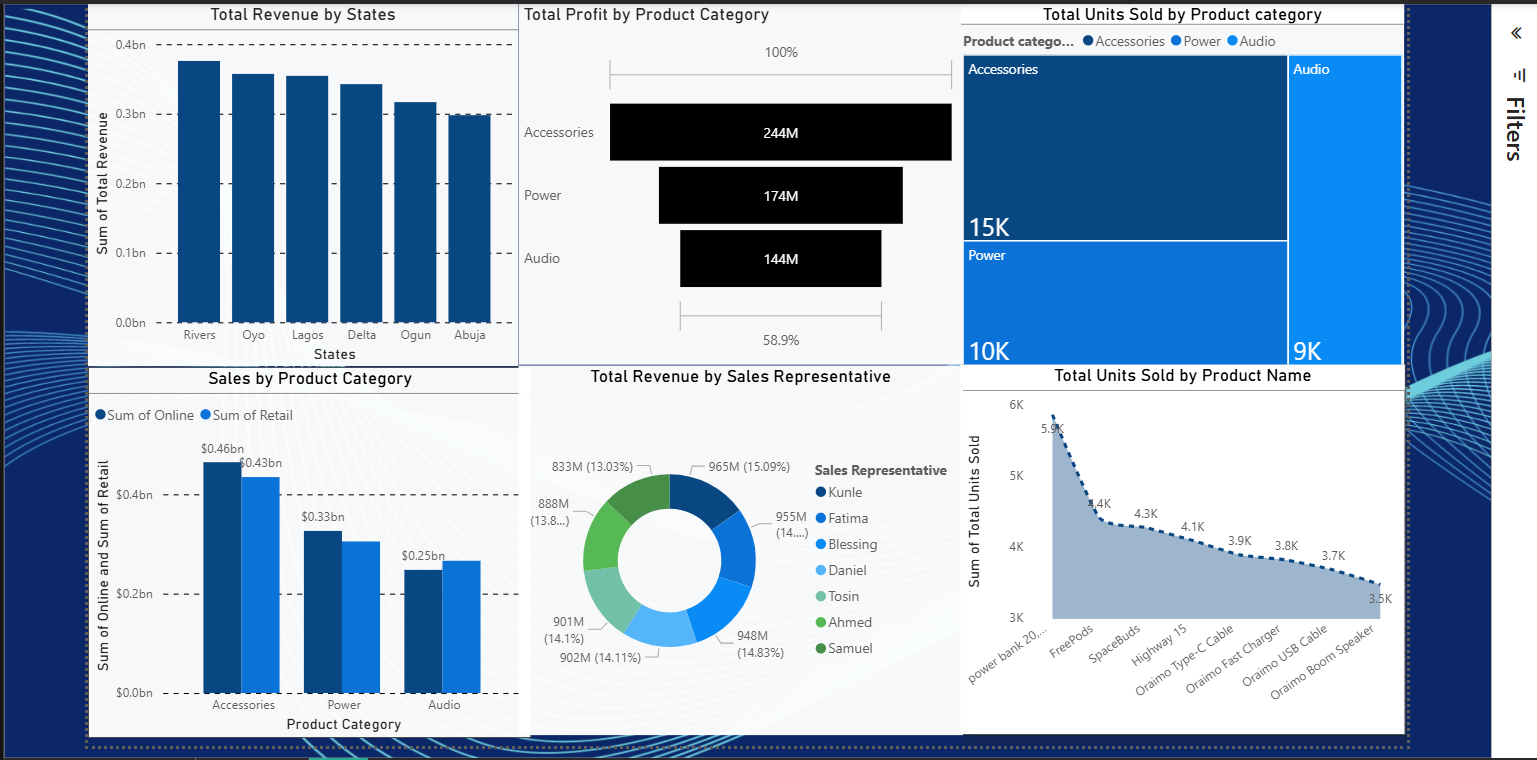

The dashboard page shown, as its layout file describes it:
{"tool":"powerbi","page":{"name":"Page 1","canvas":[1280,720],"ordinal":0},"visuals":[{"type":"areaChart","title":"Total Units Sold by Product Name","fields":{"Category":["Top performing by Products (Pivot and Chart).Product Name"],"Y":["Top performing by Products (Pivot and Chart).Total Units Sold"]},"box":[844.9,399.8,433.1,319.5],"z":0},{"type":"clusteredColumnChart","title":"Sales by Product Category","fields":{"Y":["Table 3 (Pivot and Chart).Online","Table 3 (Pivot and Chart).Retail"],"Category":["Table 3 (Pivot and Chart).Product Category"]},"box":[0,351.3,427,368],"z":1000},{"type":"donutChart","title":"Total Revenue by Sales Representative","fields":{"Category":["Table 6 (Pivot and Chart).Sales Representative"],"Y":["Table 6 (Pivot and Chart).Total Revenue"]},"box":[427,399.8,417.9,319.5],"z":2000},{"type":"funnel","title":"Total Profit by Product Category","fields":{"Category":["Table 4 (Pivot and Chart).Product Category"],"Y":["Table 4 (Pivot and Chart).Total Profit"]},"box":[427,68.1,417.9,331.6],"z":3000},{"type":"columnChart","title":"Total Revenue by States","fields":{"Category":["Regional Performance (Pivot and Chart).States"],"Y":["Regional Performance (Pivot and Chart).Total Revenue"]},"box":[0,0,427,351.3],"z":4000},{"type":"treemap","title":"Total Units Sold by Product category","fields":{"Group":["Top Performing by Category (Pivot and Chart).Product category"],"Values":["Top Performing by Category (Pivot and Chart).Total Units Sold"]},"box":[844.9,68.1,434.6,337.7],"z":5000},{"type":"shape","box":[427,0,417.9,68.1],"z":5001},{"type":"textbox","box":[433.1,6.1,413.4,56],"z":5002},{"type":"slicer","fields":{"Values":["Regional Performance (Pivot and Chart).States"]},"box":[844.9,0,156,68.1],"z":5003},{"type":"slicer","fields":{"Values":["Table 6 (Pivot and Chart).Sales Representative"]},"box":[1000.9,0,137.8,68.1],"z":5004},{"type":"slicer","fields":{"Values":["Top Performing by Category (Pivot and Chart).Product category"]},"box":[1138.7,0,140.8,68.1],"z":5005}]}

Visuals, with their boxes on the page's 1280x720 design canvas (x1, y1, x2, y2). These are canvas units, not pixel positions in the 1537x760 screenshot, which may show the page scaled, cropped or inside an application window:
"Total Units Sold by Product Name" areaChart: [x1=845, y1=400, x2=1278, y2=719]
"Sales by Product Category" clusteredColumnChart: [x1=0, y1=351, x2=427, y2=719]
"Total Revenue by Sales Representative" donutChart: [x1=427, y1=400, x2=845, y2=719]
"Total Profit by Product Category" funnel: [x1=427, y1=68, x2=845, y2=400]
"Total Revenue by States" columnChart: [x1=0, y1=0, x2=427, y2=351]
"Total Units Sold by Product category" treemap: [x1=845, y1=68, x2=1280, y2=406]
shape: [x1=427, y1=0, x2=845, y2=68]
textbox: [x1=433, y1=6, x2=846, y2=62]
slicer - Regional Performance (Pivot and Chart).States: [x1=845, y1=0, x2=1001, y2=68]
slicer - Table 6 (Pivot and Chart).Sales Representative: [x1=1001, y1=0, x2=1139, y2=68]
slicer - Top Performing by Category (Pivot and Chart).Product category: [x1=1139, y1=0, x2=1280, y2=68]
